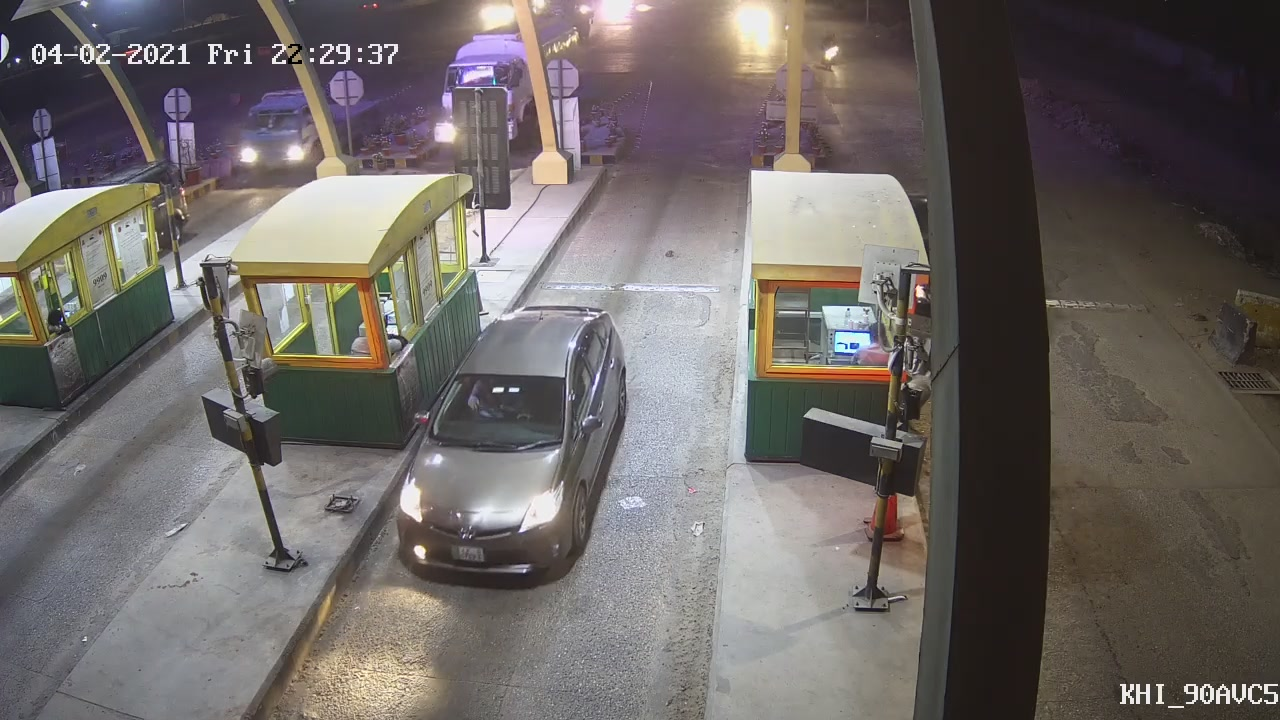F1: (392, 301, 632, 584)
